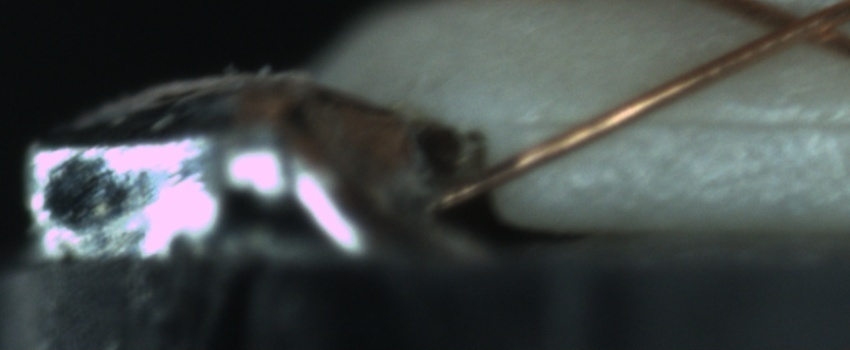CL: (744, 1, 840, 58)
DL: (529, 90, 850, 153)
